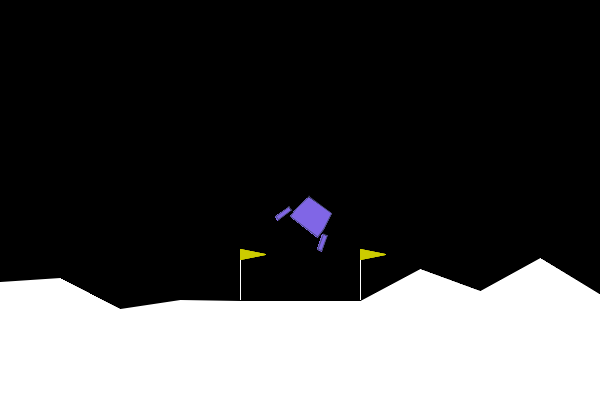lander: (273, 186, 345, 254)
